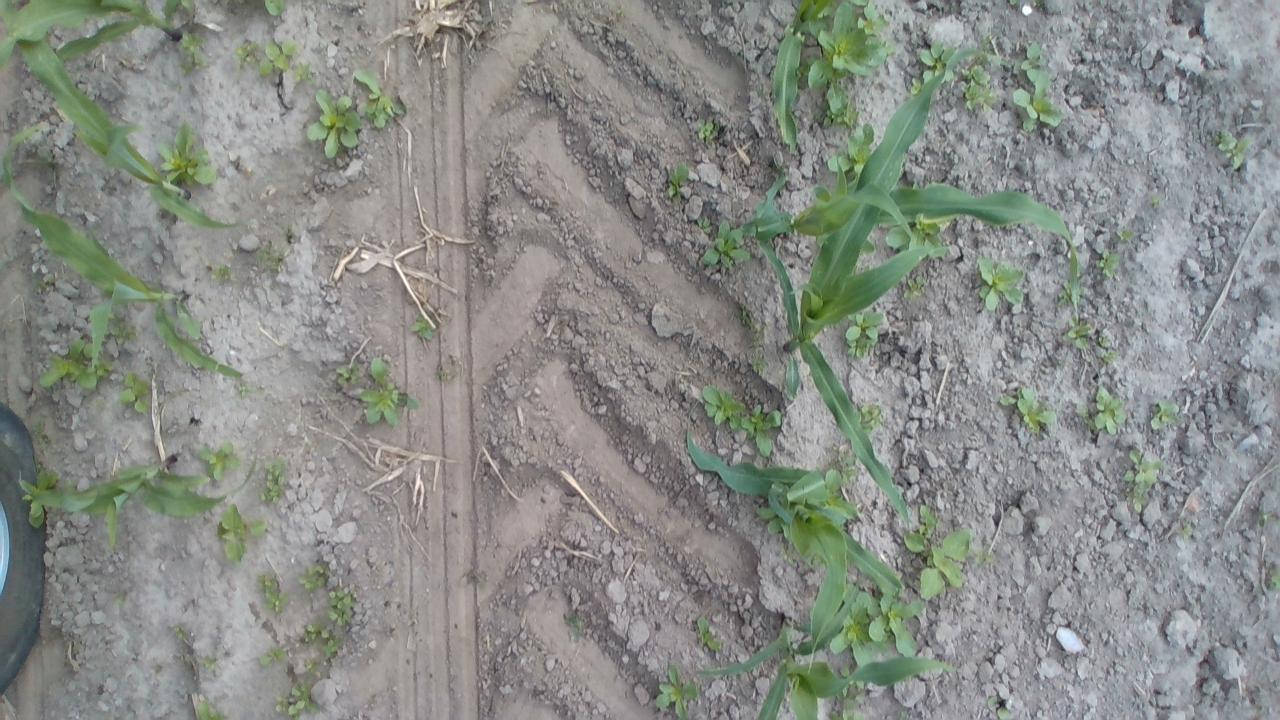Maize: (758, 41, 991, 528), (0, 119, 246, 388), (684, 406, 910, 675), (726, 152, 1080, 318), (1, 0, 245, 230), (694, 581, 958, 720), (17, 447, 260, 553), (2, 0, 188, 62), (769, 0, 834, 164)
Weeds: (808, 1, 888, 114), (901, 501, 974, 600), (832, 584, 921, 663), (699, 381, 786, 457), (354, 350, 428, 430), (1014, 40, 1066, 134), (156, 114, 215, 192), (305, 88, 367, 159), (36, 333, 106, 394), (346, 61, 404, 128), (209, 501, 265, 567), (14, 467, 66, 536), (972, 253, 1028, 312), (696, 218, 751, 271), (1120, 445, 1163, 512), (652, 660, 700, 720), (1074, 384, 1129, 436), (998, 384, 1054, 434), (880, 224, 951, 261), (822, 124, 874, 172), (196, 437, 244, 483), (820, 468, 861, 518), (256, 32, 298, 80), (268, 677, 318, 717), (846, 310, 886, 358), (1216, 127, 1256, 174), (696, 611, 733, 660), (248, 570, 291, 612), (117, 368, 153, 418), (919, 35, 954, 83), (818, 92, 864, 128), (961, 61, 994, 111), (324, 583, 360, 628), (258, 453, 288, 503), (664, 160, 694, 206), (562, 610, 596, 650), (176, 29, 208, 71), (34, 148, 64, 192), (1062, 315, 1092, 354), (837, 662, 869, 698), (856, 3, 887, 39), (1148, 394, 1178, 430), (256, 236, 286, 270), (256, 638, 286, 672), (750, 329, 771, 377), (1094, 247, 1122, 282), (857, 397, 885, 430), (297, 562, 324, 594), (984, 692, 1014, 720), (824, 703, 872, 720), (108, 320, 138, 346), (317, 623, 340, 656), (830, 446, 856, 475), (210, 262, 238, 288), (434, 354, 460, 382), (262, 0, 292, 24), (232, 37, 256, 67), (298, 614, 322, 644), (1056, 280, 1082, 306), (408, 312, 432, 340), (338, 361, 362, 387), (1173, 520, 1195, 548), (1255, 501, 1274, 532), (196, 699, 222, 720), (735, 302, 756, 328), (30, 416, 48, 446), (902, 275, 924, 299), (692, 212, 714, 236), (194, 651, 219, 672), (694, 118, 714, 144), (31, 274, 57, 292), (974, 546, 994, 568), (1265, 564, 1280, 592), (238, 378, 258, 397), (979, 31, 998, 50), (1100, 344, 1120, 362), (1118, 227, 1136, 245), (282, 222, 296, 245), (172, 624, 188, 642), (1148, 194, 1164, 210), (293, 62, 308, 77), (300, 654, 316, 668), (616, 4, 629, 19), (112, 591, 126, 604), (1097, 333, 1109, 347), (1006, 0, 1018, 10), (1031, 0, 1044, 9), (268, 280, 277, 289)
